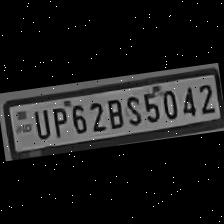0: (157, 86, 179, 118)
2: (84, 96, 107, 132), (193, 80, 217, 114)
4: (176, 82, 198, 117)
5: (138, 87, 161, 122)
6: (65, 100, 88, 134)
B: (102, 94, 126, 129)
P: (47, 104, 70, 138)
S: (122, 92, 144, 126)
U: (28, 104, 52, 140)
